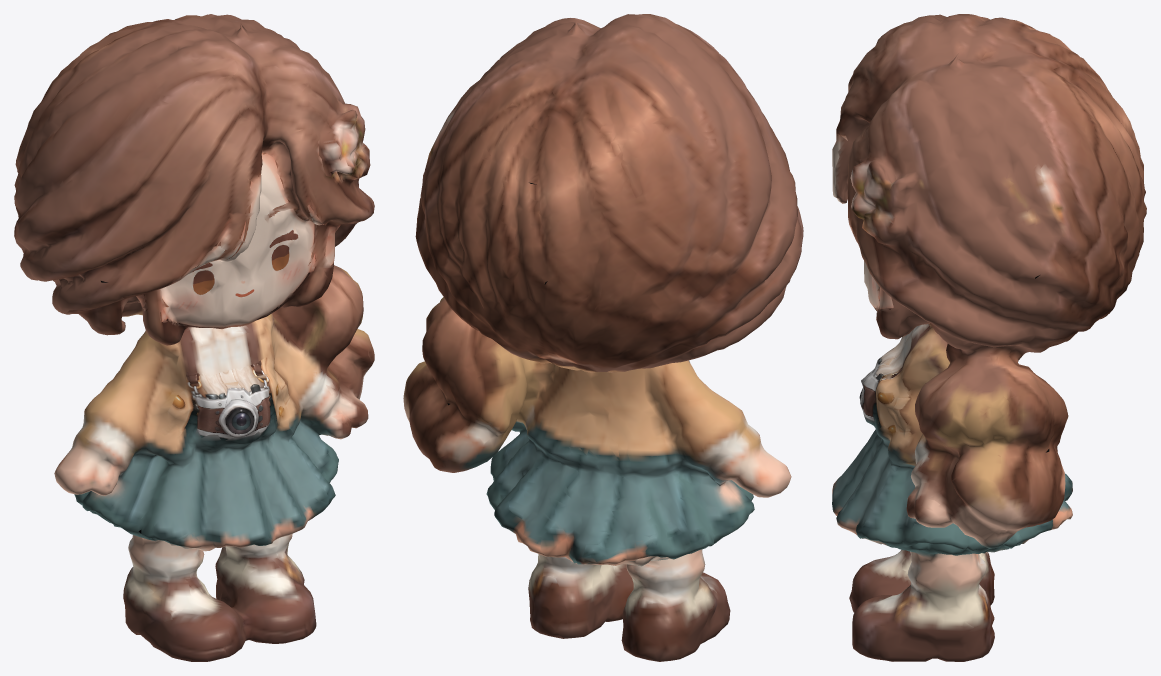
Rendered from tangli-toon-prototype-v4.glb.
3 renders of one model, left to right at view 1: azimuth 30°, elevation 25°; view 2: azimuth 150°, elevation 25°; view 3: azimuth 270°, elevation 25°, orthographic. The views are drawn at different scales.
Visible parts, largest first — view 1: TangLi_Toon_Material_Prototype; view 2: TangLi_Toon_Material_Prototype; view 3: TangLi_Toon_Material_Prototype.
Boxes of the visible parts, x1,y1,x2,y2 form: TangLi_Toon_Material_Prototype: [14, 14, 374, 661]; TangLi_Toon_Material_Prototype: [403, 14, 803, 661]; TangLi_Toon_Material_Prototype: [832, 14, 1146, 661].
Bounding box in the file's own units: 1.25 × 2.01 × 0.9612.
2 materials, 2 textured.
